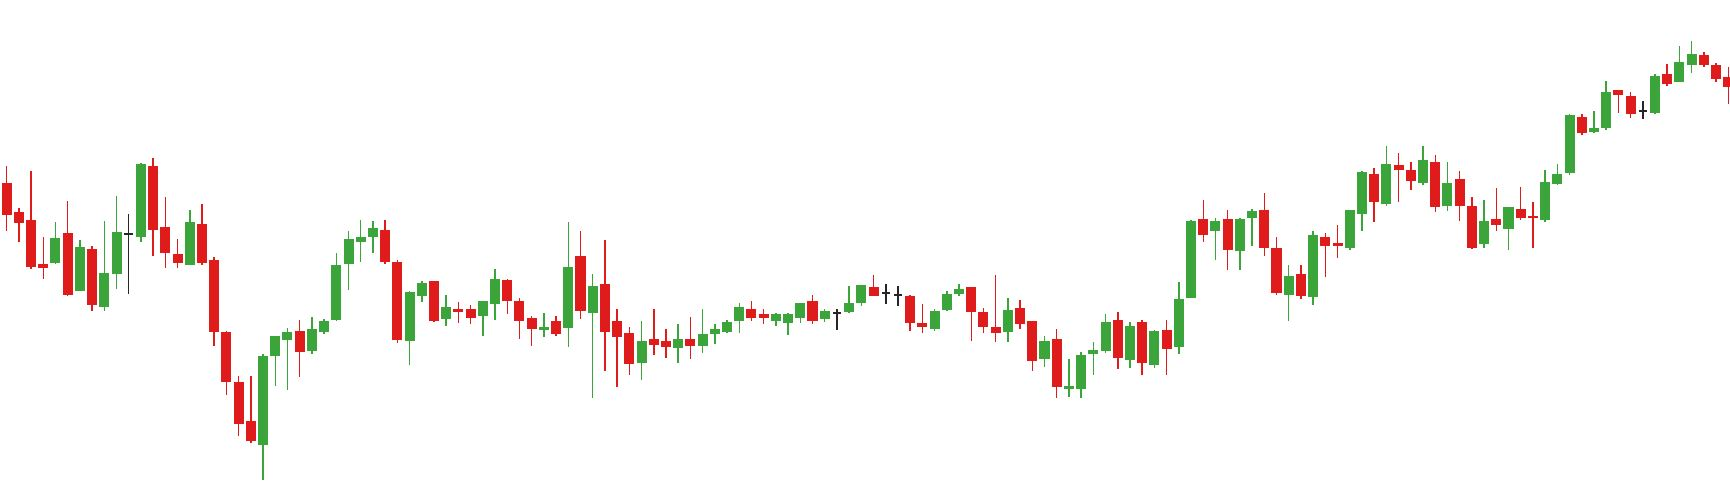sell: (62, 155, 161, 271), (487, 220, 587, 328)
